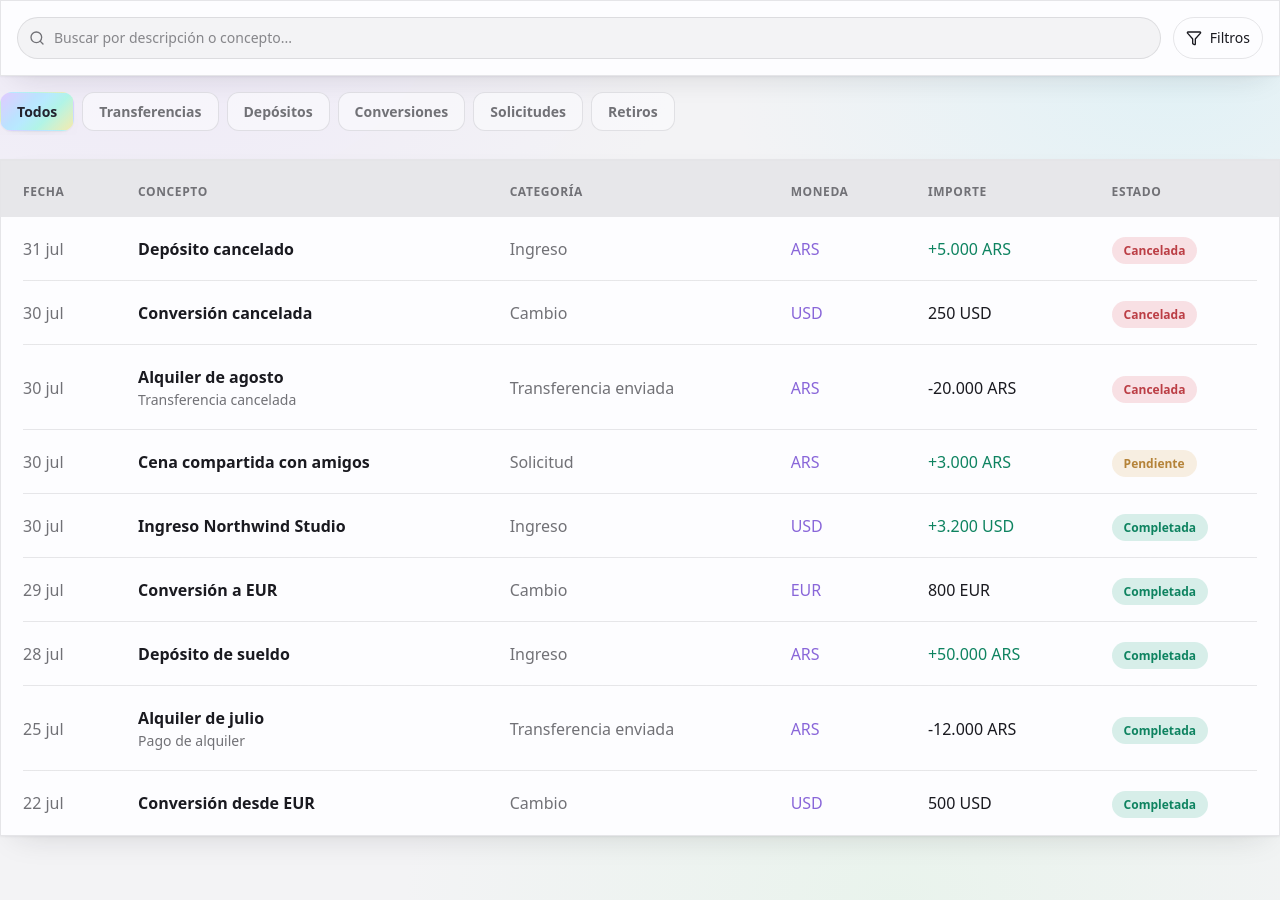
Transactions › abre el modal al hacer clic en una fila
Click the text "Pago de alquiler".
click(192, 740)  # box [138,731,245,750]
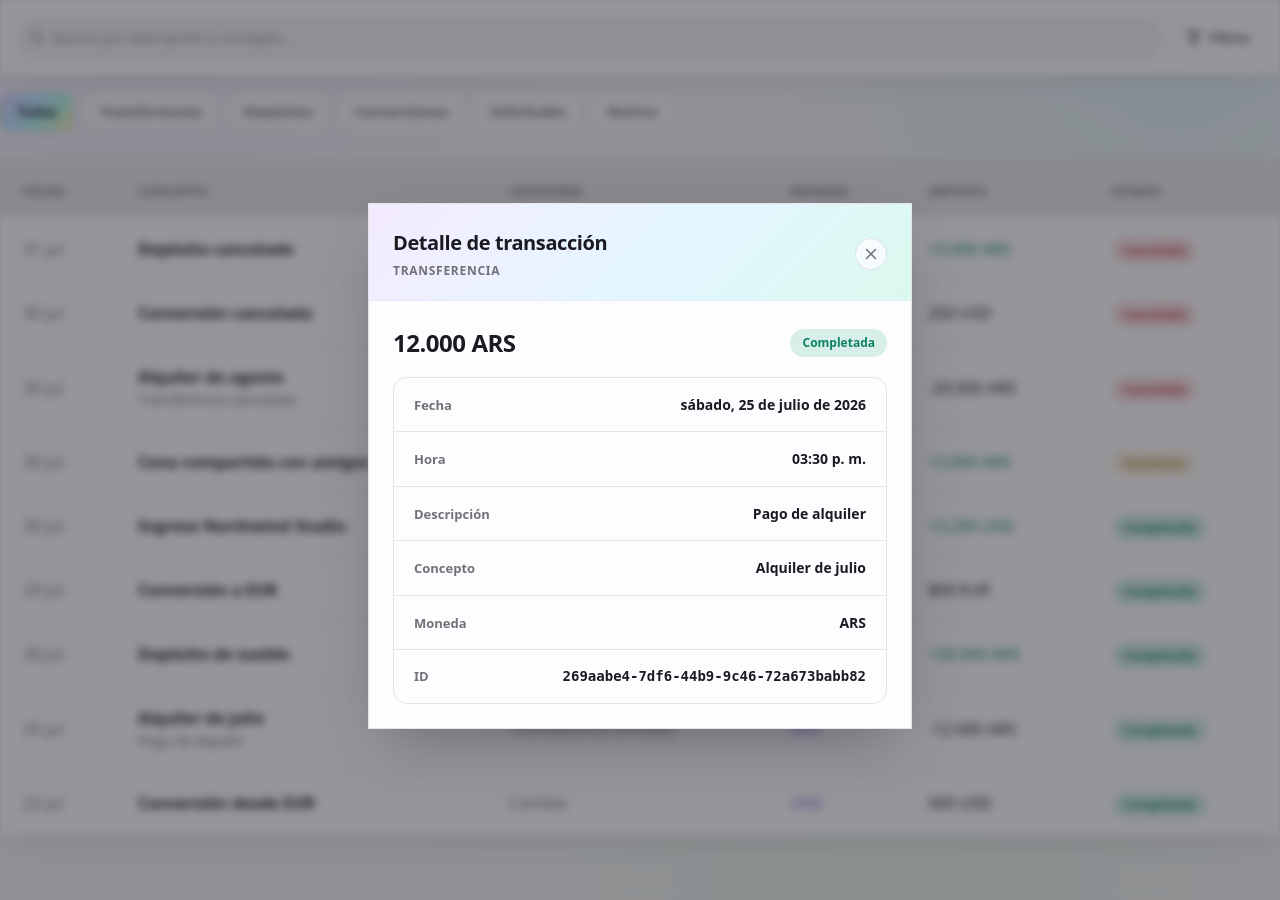
Now the dialog is shown
Now the text "Alquiler de julio" is shown, box [756,557,866,578]
